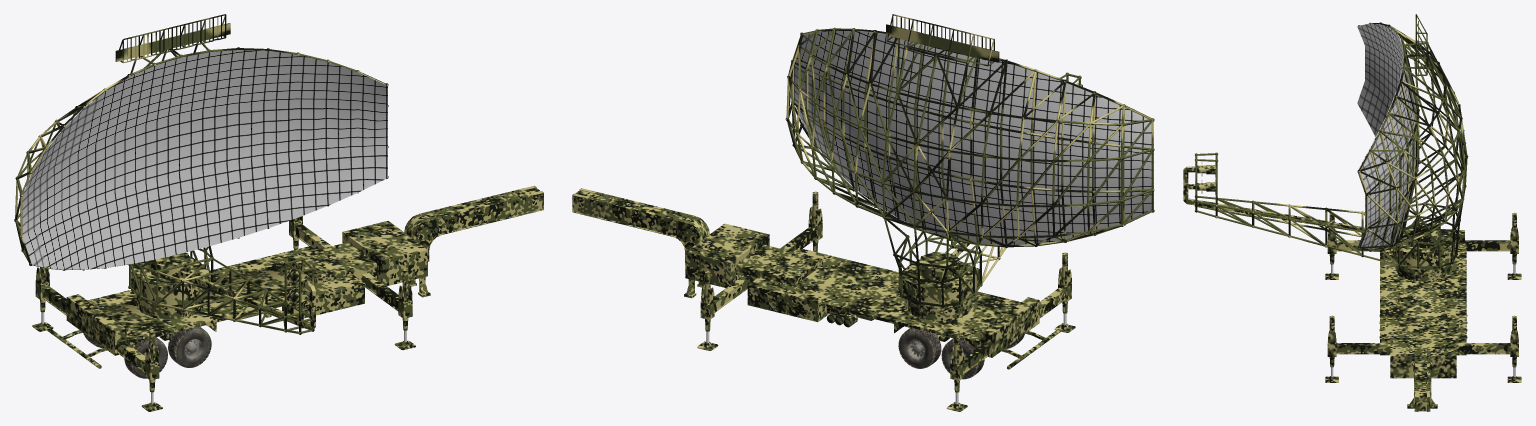
Rendered from part_complete.fbx.
3 views of the same model, side by side, from view 1: azimuth 30°, elevation 25°; view 2: azimuth 150°, elevation 25°; view 3: azimuth 270°, elevation 25° (orthographic). The views are drawn at different scales.
Visible parts, largest first — view 1: 3d66-Editable_Poly-20185282-001; view 2: 3d66-Editable_Poly-20185282-001; view 3: 3d66-Editable_Poly-20185282-001.
Part boxes in pixels (<box>): 3d66-Editable_Poly-20185282-001: <box>14,14,543,411</box>; 3d66-Editable_Poly-20185282-001: <box>572,14,1154,411</box>; 3d66-Editable_Poly-20185282-001: <box>1183,14,1521,411</box>.
Bounding box in the file's own units: 1531 × 864 × 973.
5 materials, 3 textured.
